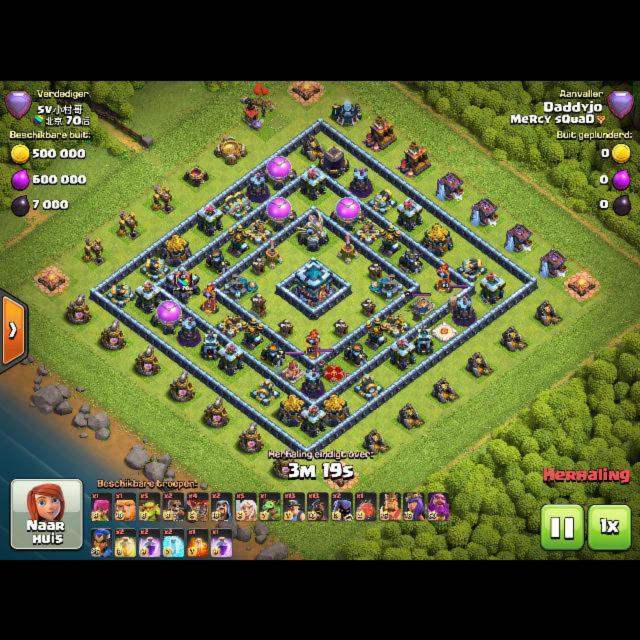AD: (241, 316, 264, 350), (365, 316, 388, 350), (227, 223, 250, 257), (378, 223, 400, 257)
AirSweeper: (336, 234, 358, 263), (261, 240, 283, 269)
BombTower: (414, 324, 433, 355), (201, 329, 220, 360)
Canon: (222, 191, 252, 220), (353, 373, 383, 400), (250, 378, 280, 405), (367, 187, 397, 213), (457, 256, 487, 281), (140, 257, 170, 282), (105, 282, 135, 307)
ClanCastle: (165, 263, 199, 303)
Eagle: (297, 211, 329, 251)
Inferno: (434, 263, 453, 293), (200, 283, 219, 313), (304, 329, 322, 360)
KingPad: (279, 362, 306, 382)
Mortar: (204, 248, 230, 274), (397, 248, 423, 274), (342, 342, 368, 367), (259, 342, 285, 367)
QueenPad: (321, 362, 348, 382)
RcPad: (412, 297, 434, 314)
Scattershot: (369, 273, 403, 301), (224, 273, 259, 300)
TH13: (294, 259, 332, 306)
WardenPad: (432, 321, 456, 339)
WizzTower: (177, 316, 199, 346), (301, 367, 323, 397), (349, 166, 371, 196), (246, 171, 268, 201), (453, 295, 475, 325)
Xbow: (382, 311, 411, 337), (216, 311, 245, 337), (244, 218, 273, 244), (353, 218, 382, 244)
